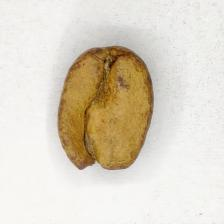NG: (72, 54, 138, 165)
